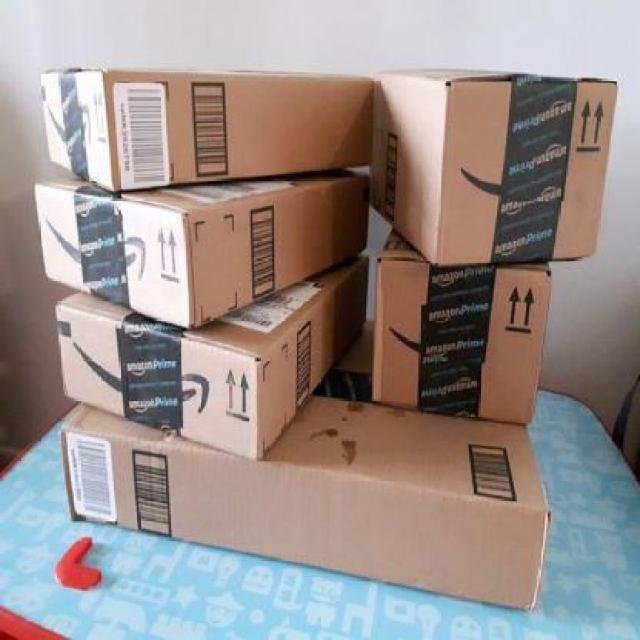box: (61, 319, 550, 617), (54, 252, 376, 466), (36, 172, 368, 327), (373, 66, 620, 266), (38, 62, 380, 196), (380, 222, 556, 431)
